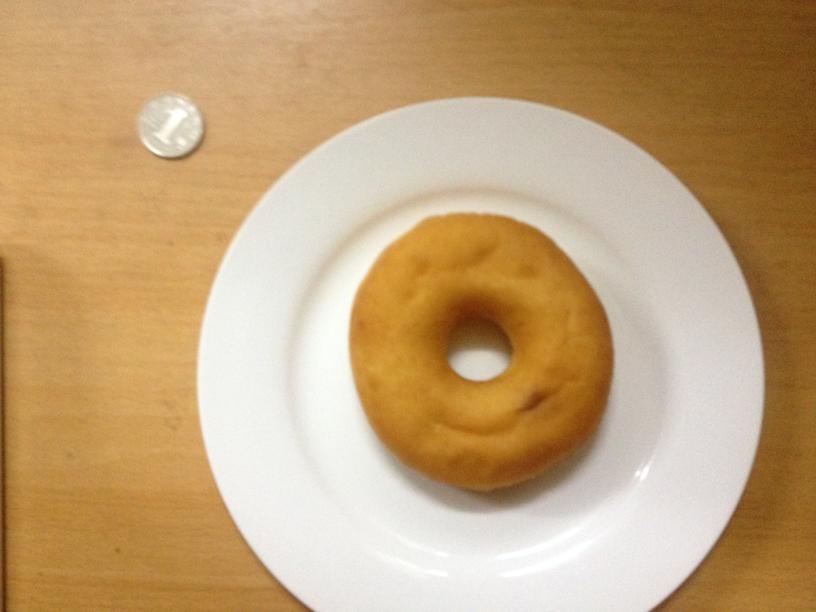coin: (134, 91, 205, 156)
doughnut: (355, 210, 614, 493)
